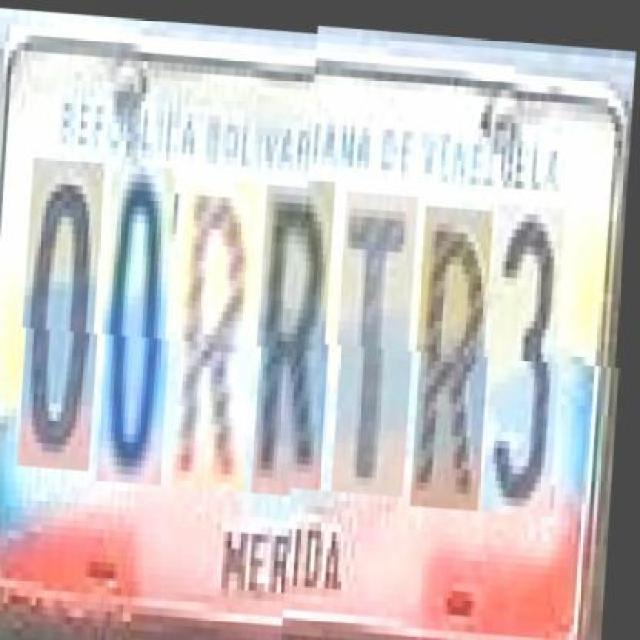3: (487, 203, 571, 515)
o: (24, 158, 111, 470), (102, 162, 182, 482)
r: (179, 174, 266, 488), (257, 180, 341, 492), (416, 206, 499, 511)
t: (338, 193, 424, 498)
